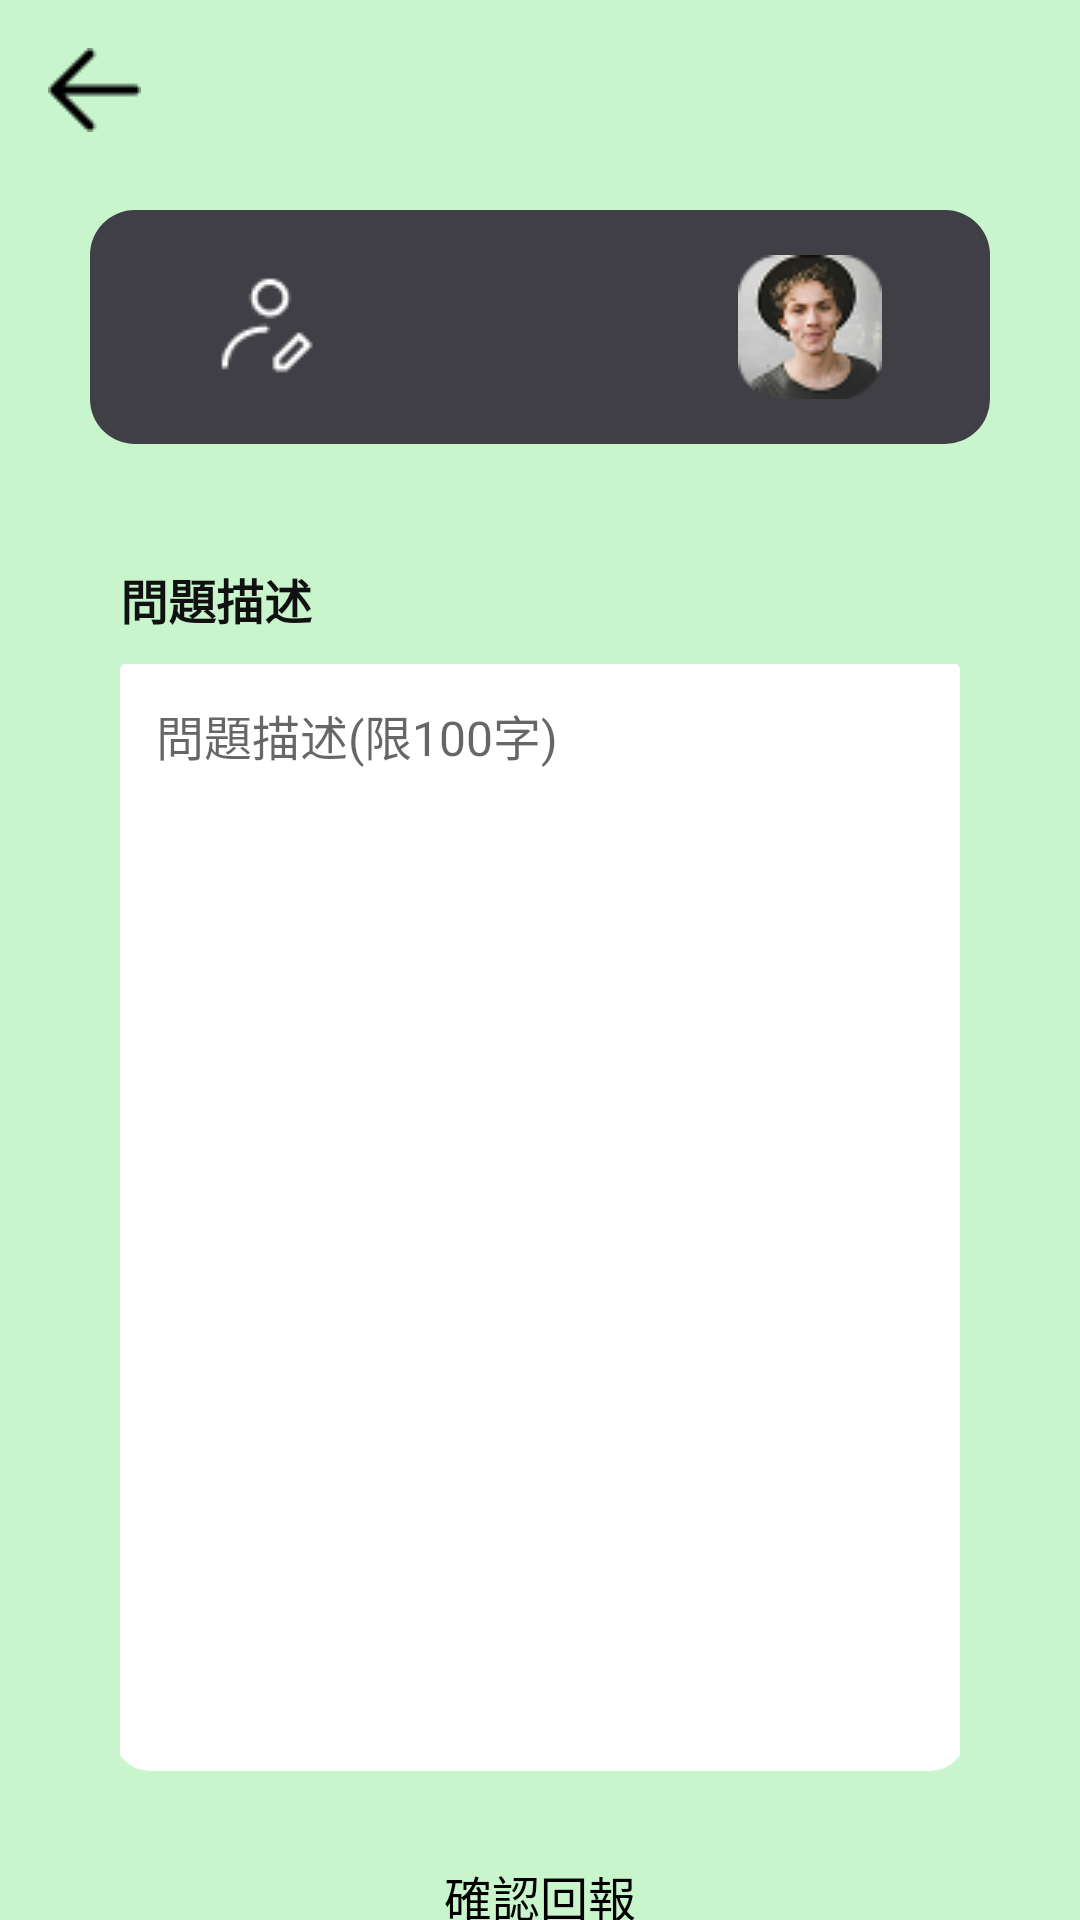

Named icons in this screenshot (1080×1920) and their centers, point (x, y):
back: point (94, 90)
user photo: point (810, 327)
